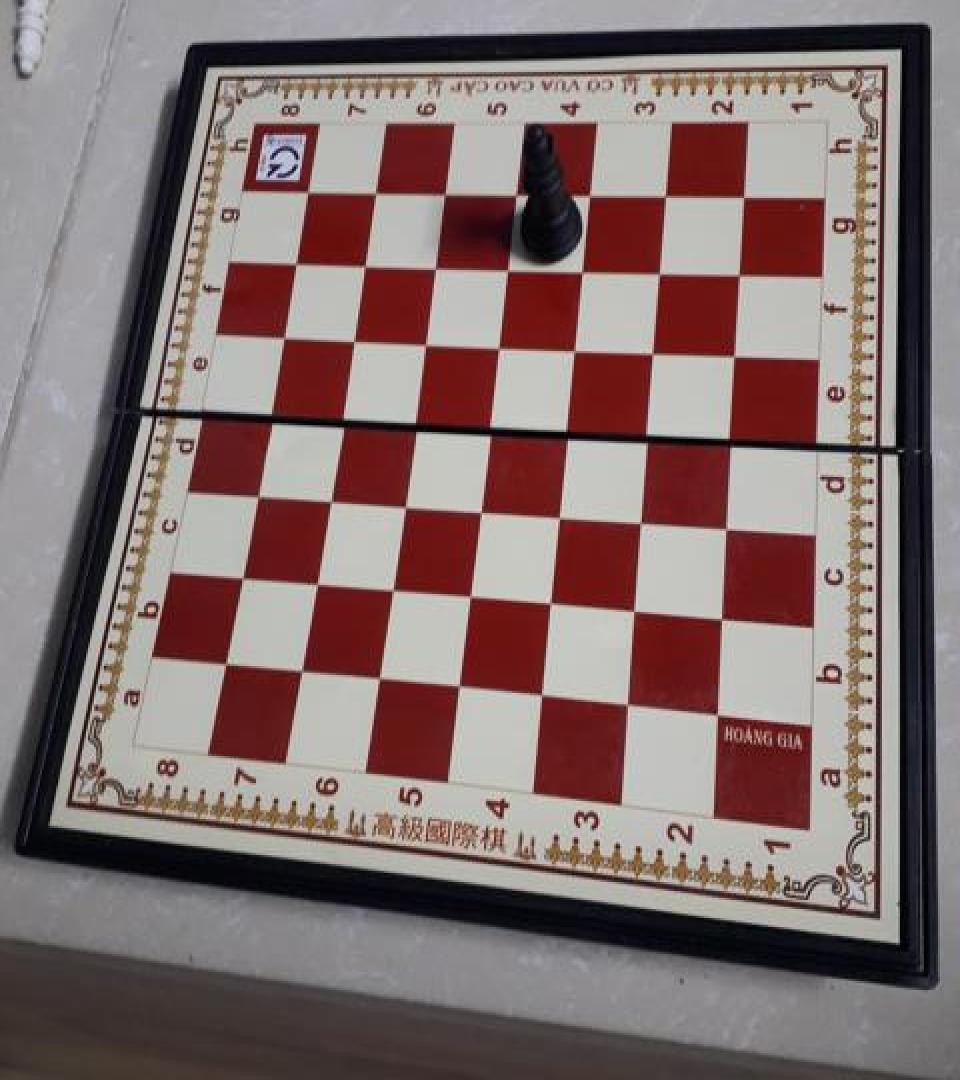xcorner: (286, 652, 314, 684), (364, 660, 392, 692), (445, 669, 473, 701), (528, 677, 556, 709), (614, 686, 642, 718), (703, 695, 731, 727), (377, 570, 405, 602), (456, 577, 484, 609), (708, 598, 736, 630), (314, 479, 342, 511), (467, 489, 495, 521), (547, 495, 575, 527), (713, 506, 741, 538), (328, 397, 356, 429), (477, 406, 505, 438), (555, 409, 583, 441), (635, 414, 663, 446), (717, 418, 745, 450), (270, 317, 298, 349), (487, 326, 515, 358), (563, 328, 591, 360), (722, 335, 750, 367), (284, 244, 312, 276), (353, 246, 381, 278), (423, 247, 451, 279), (571, 252, 599, 284), (647, 253, 675, 285), (726, 255, 754, 287), (297, 174, 325, 206), (364, 174, 392, 206), (434, 175, 462, 207), (730, 180, 758, 212), (210, 645, 238, 676), (226, 557, 254, 588), (301, 564, 329, 595), (538, 584, 566, 615), (621, 591, 649, 622), (241, 474, 269, 505), (390, 484, 418, 515), (628, 501, 656, 532), (256, 394, 284, 425), (401, 402, 429, 433), (341, 321, 369, 352), (413, 323, 441, 354), (641, 332, 669, 363), (496, 250, 524, 281), (505, 177, 533, 208), (578, 178, 606, 209), (653, 179, 681, 210)
